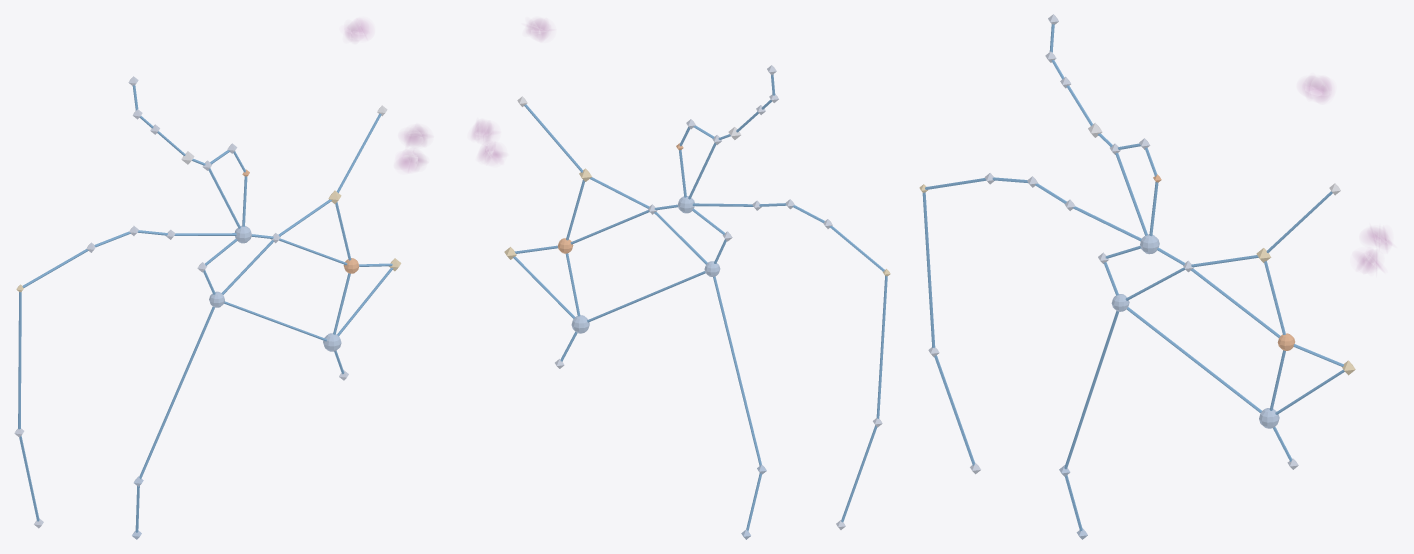
File: constellation-sgr.glb
The picture shows the model from 3 angles, left to right: view 1: azimuth 30°, elevation 25°; view 2: azimuth 150°, elevation 25°; view 3: azimuth 330°, elevation 25°; orthographic projection. The views are drawn at different scales.
Size of the model in its own units: 2.81 by 3.02 by 0.3596.
